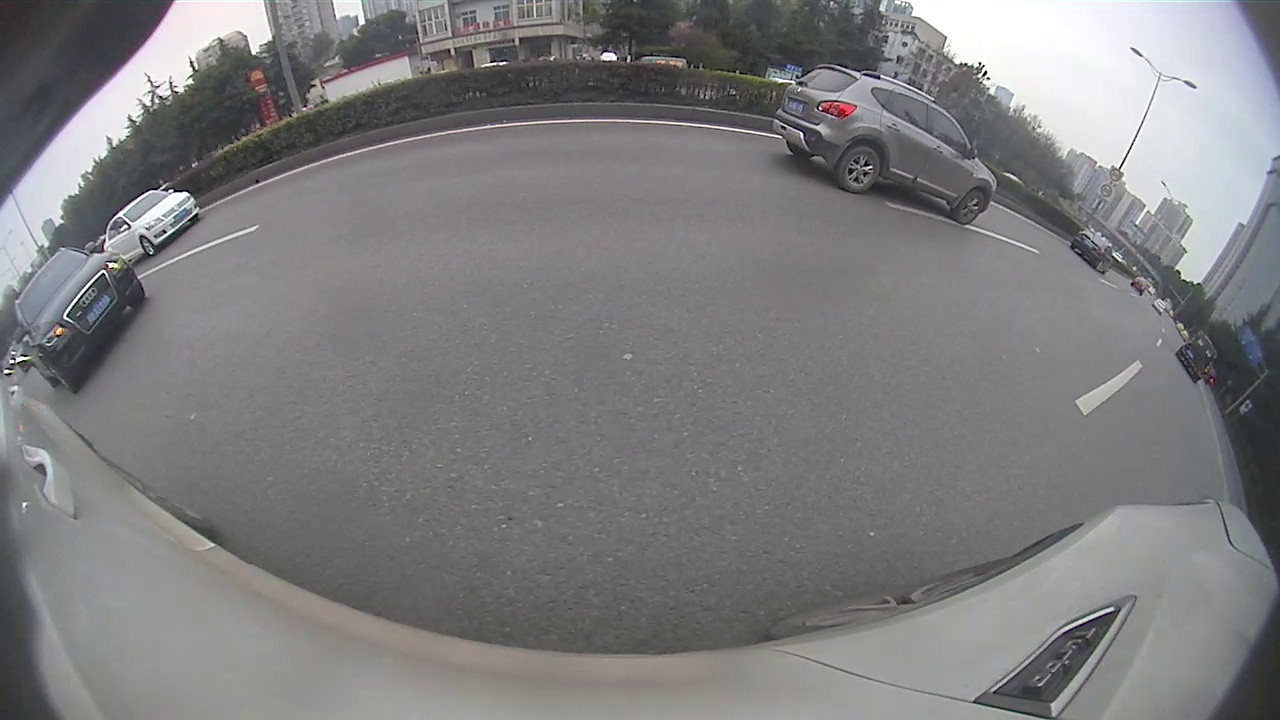car: (773, 62, 996, 224), (12, 248, 147, 393), (97, 190, 201, 263), (1070, 230, 1115, 275), (1176, 332, 1217, 380)
front: (951, 186, 988, 226), (139, 234, 158, 258)
rear: (834, 143, 881, 195)
